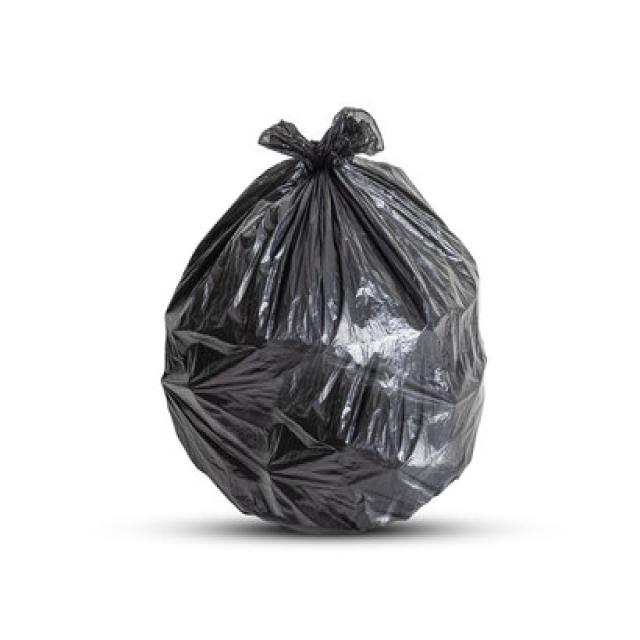trash: (133, 98, 495, 521)
